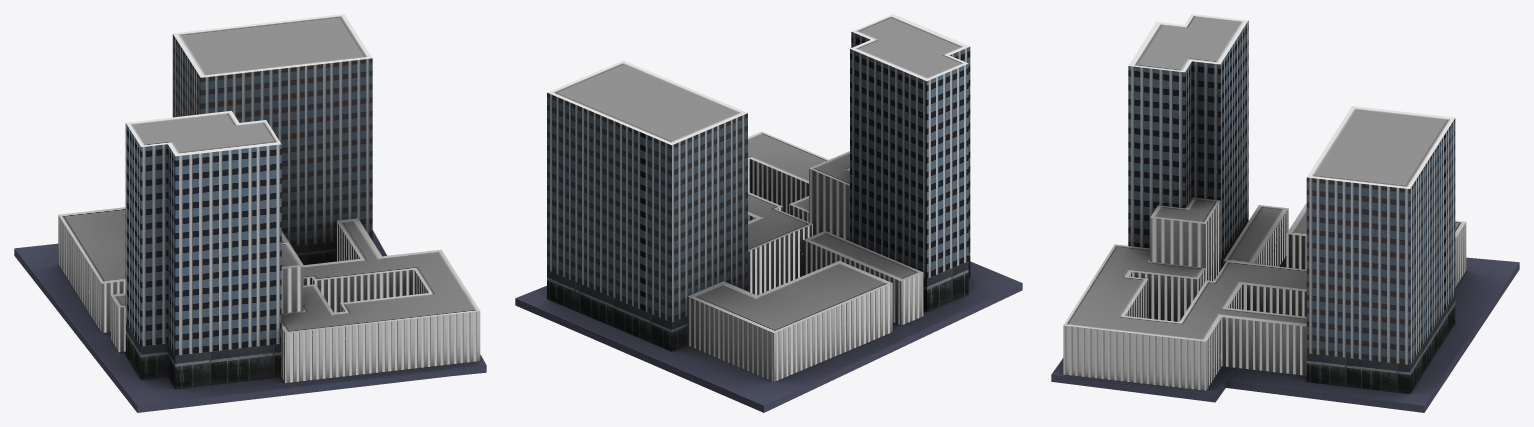
File: kyjd.gltf
3 renders of one model, left to right at view 1: azimuth 30°, elevation 25°; view 2: azimuth 150°, elevation 25°; view 3: azimuth 270°, elevation 25°, orthographic.
Visible parts, largest first — view 1: pCube3, pCube5, pCube6, pCube1, pCube2, pCube4, pCube7; view 2: pCube5, pCube3, pCube2, pCube1, pCube6, pCube7, pCube4; view 3: pCube5, pCube6, pCube3, pCube1, pCube4, pCube7, pCube2.
Part boxes in pixels (<box>): pCube3: <box>125,110,281,389</box>; pCube5: <box>172,14,372,265</box>; pCube6: <box>281,218,480,383</box>; pCube1: <box>14,230,486,412</box>; pCube2: <box>58,207,125,332</box>; pCube4: <box>281,242,303,313</box>; pCube7: <box>110,293,125,352</box>; pCube5: <box>547,60,747,351</box>; pCube3: <box>850,14,970,311</box>; pCube2: <box>687,260,892,381</box>; pCube1: <box>515,261,1022,412</box>; pCube6: <box>748,131,828,295</box>; pCube7: <box>803,231,923,325</box>; pCube4: <box>809,151,849,240</box>; pCube5: <box>1306,106,1455,393</box>; pCube6: <box>1063,244,1306,390</box>; pCube3: <box>1128,14,1248,269</box>; pCube1: <box>1051,256,1519,412</box>; pCube4: <box>1150,197,1220,281</box>; pCube7: <box>1223,205,1288,266</box>; pCube2: <box>1286,203,1466,286</box>.
Size of the model in its own units: 13.93 by 8.68 by 15.6.
Materials: 1 (1 with a texture image).
